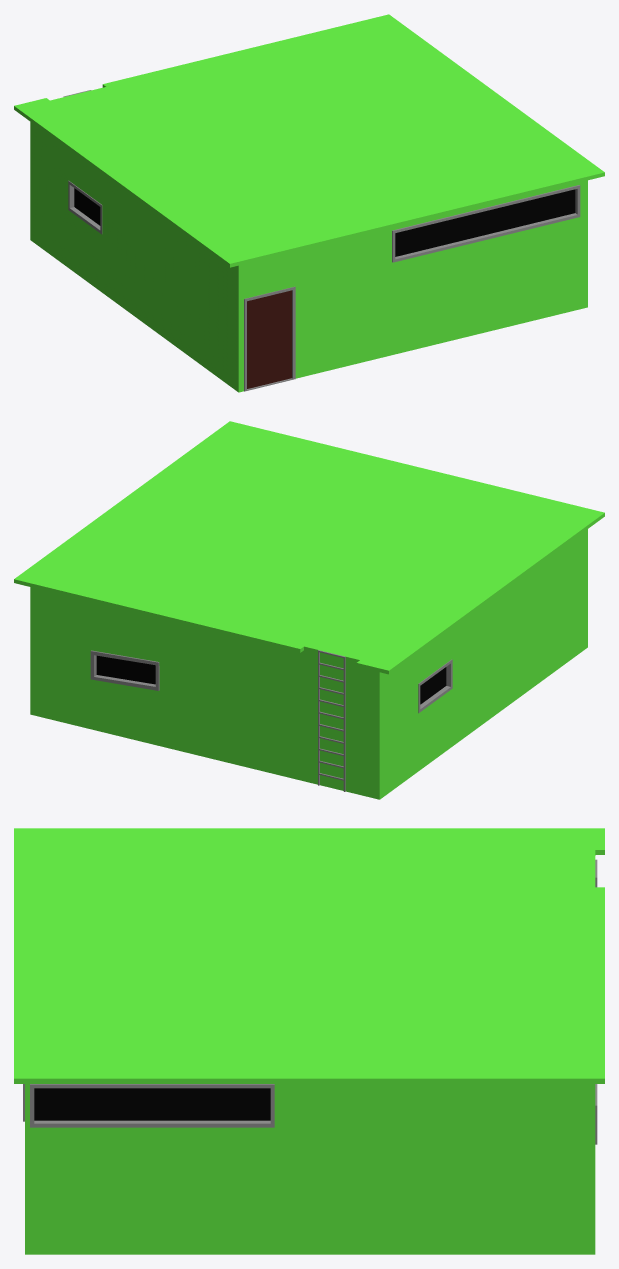
File: Shack 3x3.FBX
3 views of the same model, one above another, from view 1: azimuth 30°, elevation 25°; view 2: azimuth 150°, elevation 25°; view 3: azimuth 270°, elevation 25° (orthographic). The views are drawn at different scales.
Visible parts, largest first — view 1: Shack 3x3; view 2: Shack 3x3, Ladder; view 3: Shack 3x3.
Boxes of the visible parts, x1=… form: Shack 3x3: x1=14, y1=14, x2=604, y2=392; Shack 3x3: x1=14, y1=421, x2=604, y2=799; Ladder: x1=318, y1=650, x2=345, y2=791; Shack 3x3: x1=14, y1=828, x2=604, y2=1254.
Bounding box in the file's own units: 291 × 100 × 290.
